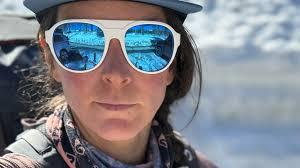sunglasses: (45, 16, 188, 80)
